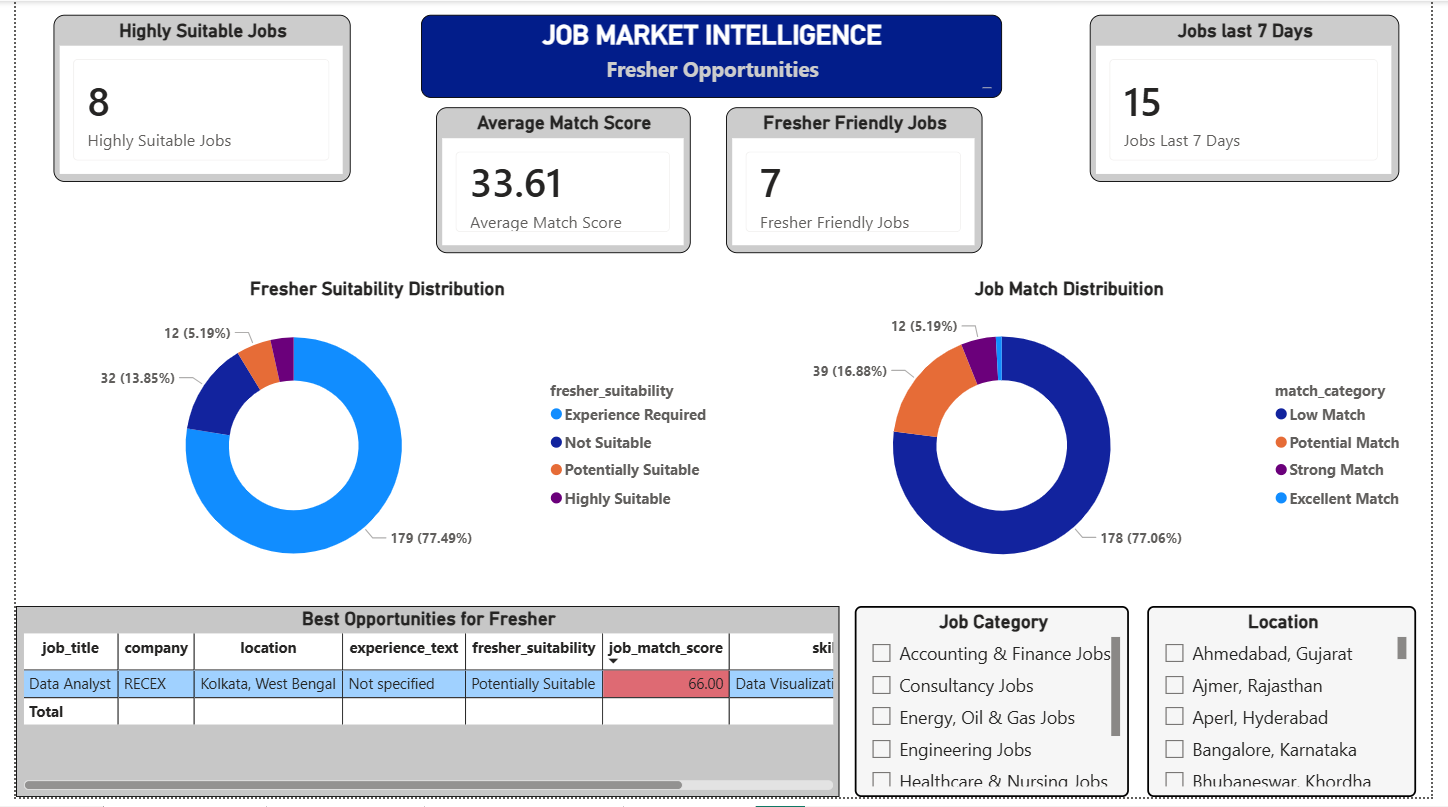

Layout of this report page (visuals, bound fields, positions):
{"tool":"powerbi","page":{"name":"Fresher Opportunities","canvas":[1280,720],"ordinal":2},"visuals":[{"type":"cardVisual","title":"Highly Suitable Jobs","fields":{"Data":["jobs_dashboard.Highly Suitable Jobs"]},"box":[34.3,12.3,269,150.9],"z":0},{"type":"cardVisual","title":"Fresher Friendly Jobs","fields":{"Data":["jobs_dashboard.Fresher Friendly Jobs"]},"box":[642.2,96.1,231.9,131.7],"z":1000},{"type":"cardVisual","title":"Jobs last 7 Days","fields":{"Data":["jobs_dashboard.Jobs Last 7 Days"]},"box":[971.5,12.3,279.9,150.9],"z":2000},{"type":"cardVisual","title":"Average Match Score","fields":{"Data":["jobs_dashboard.Average Match Score"]},"box":[380.1,96.1,230.5,131.7],"z":3000},{"type":"donutChart","title":"Fresher Suitability Distribution","fields":{"Category":["jobs_dashboard.fresher_suitability"],"Y":["jobs_dashboard.Total Jobs"]},"box":[15.1,249.7,624.4,285.4],"z":4000},{"type":"donutChart","title":"Job Match Distribuition","fields":{"Category":["jobs_dashboard.match_category"],"Y":["jobs_dashboard.Total Jobs"]},"box":[639.5,249.7,625.7,285.4],"z":5000},{"type":"tableEx","title":"Best Opportunities for Fresher","fields":{"Values":["jobs_dashboard.job_title","jobs_dashboard.company","jobs_dashboard.location","jobs_dashboard.experience_text","jobs_dashboard.fresher_suitability","jobs_dashboard.job_match_score","jobs_dashboard.skills","jobs_dashboard.salary_mid"]},"box":[0,547.5,745.1,172.9],"z":6000},{"type":"slicer","title":"Job Category","fields":{"Values":["jobs_dashboard.category"]},"box":[758.8,547.5,248.4,172.9],"z":7000},{"type":"slicer","title":"Location","fields":{"Values":["jobs_dashboard.location"]},"box":[1023.7,547.5,242.9,172.9],"z":8000},{"type":"textbox","title":"JOB MARKET INTELLIGENCE","box":[366.4,12.3,525.6,75.5],"z":9000}]}

Visuals, with their boxes in screenshot pixels (x1, y1, x2, y2), scaled from the page's 1280x720 canvas onto the 1448x807 screenshot:
"Highly Suitable Jobs" cardVisual: BBox(39, 14, 343, 183)
"Fresher Friendly Jobs" cardVisual: BBox(726, 108, 989, 255)
"Jobs last 7 Days" cardVisual: BBox(1099, 14, 1416, 183)
"Average Match Score" cardVisual: BBox(430, 108, 691, 255)
"Fresher Suitability Distribution" donutChart: BBox(17, 280, 723, 600)
"Job Match Distribuition" donutChart: BBox(723, 280, 1431, 600)
"Best Opportunities for Fresher" tableEx: BBox(0, 614, 843, 806)
"Job Category" slicer: BBox(858, 614, 1139, 806)
"Location" slicer: BBox(1158, 614, 1433, 806)
"JOB MARKET INTELLIGENCE" textbox: BBox(414, 14, 1009, 98)
